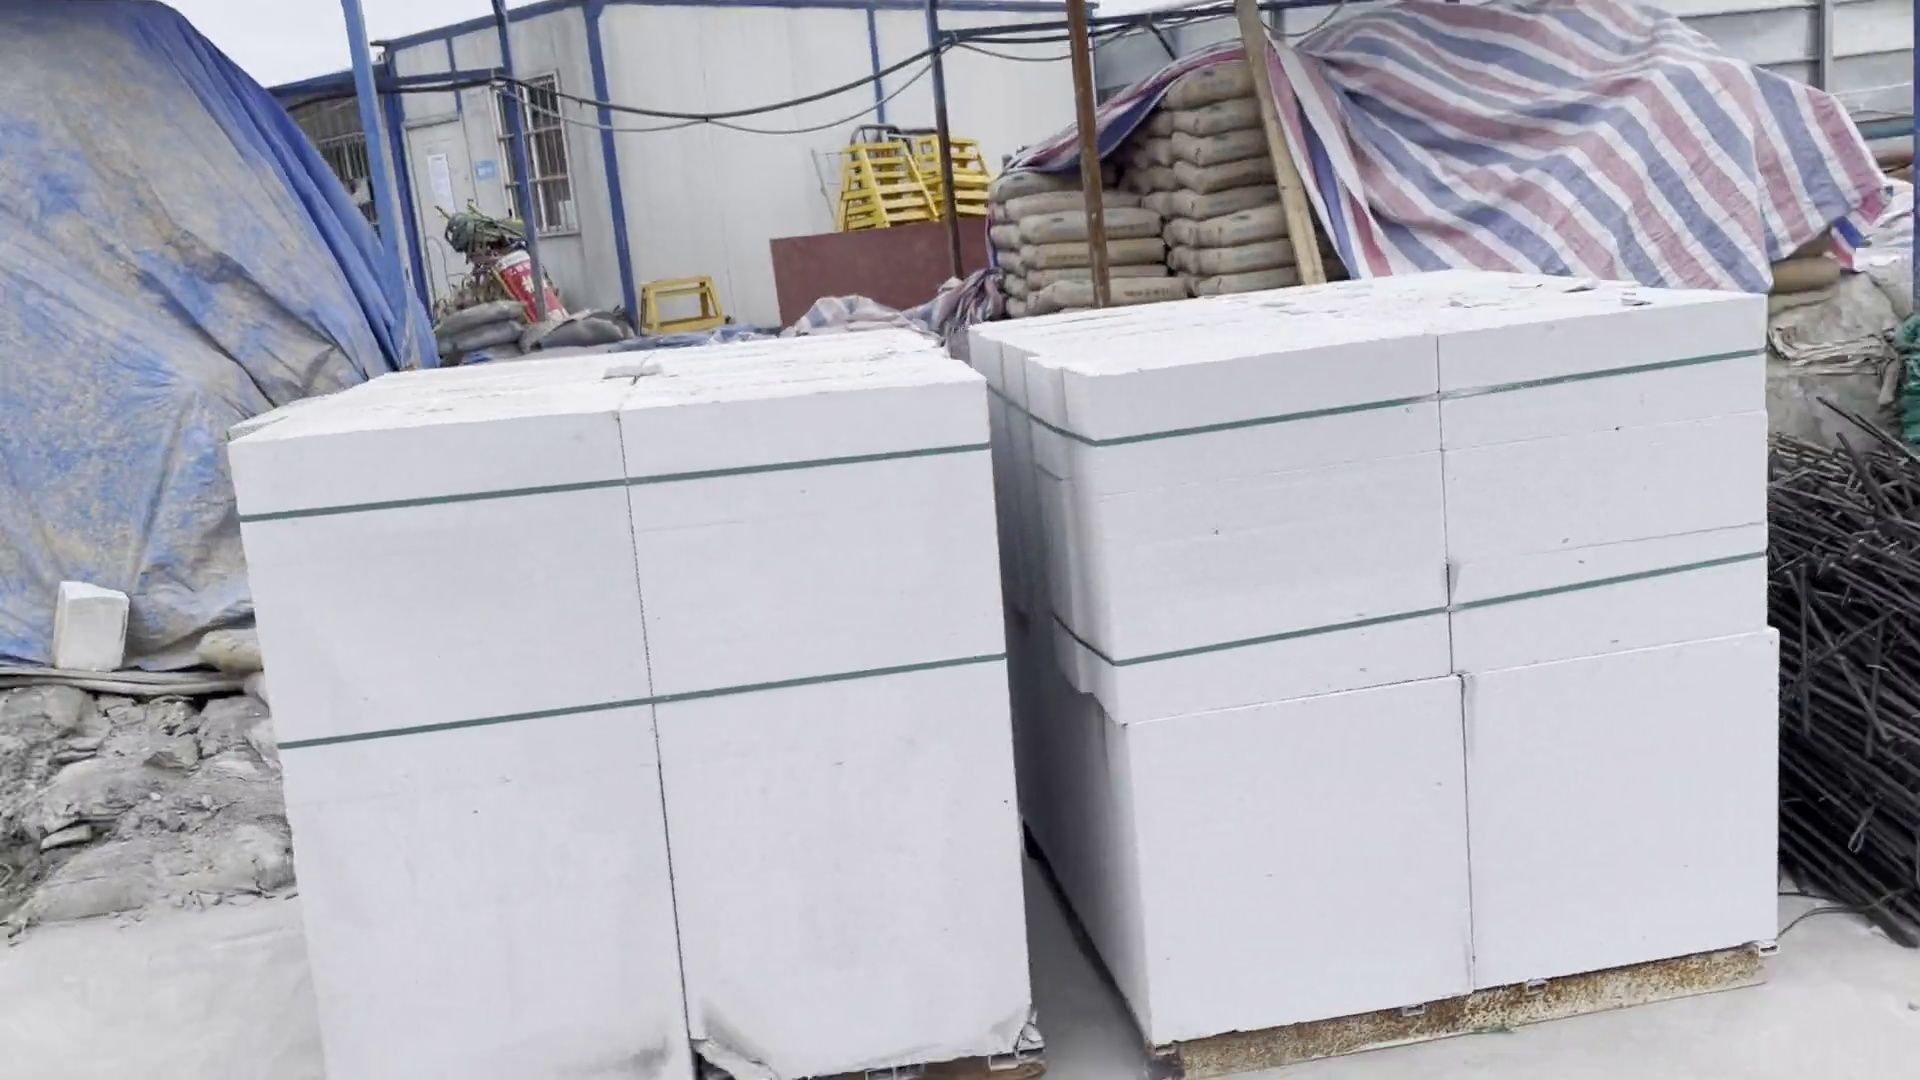brick: (963, 262, 1785, 1080), (225, 327, 1036, 1080)
